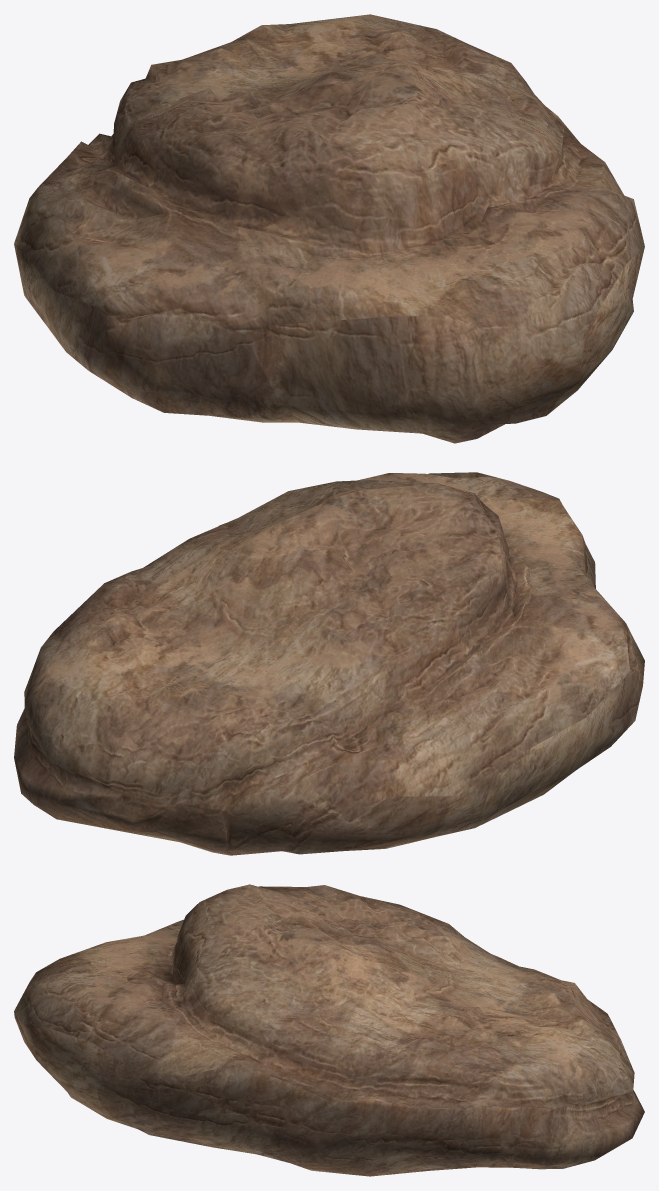
File: rock_small07.dae
The picture shows the model from 3 angles, top to bottom: view 1: azimuth 30°, elevation 25°; view 2: azimuth 150°, elevation 25°; view 3: azimuth 270°, elevation 25°; orthographic projection. The views are drawn at different scales.
Parts seen in each view (by area): view 1: Mesh; view 2: Mesh; view 3: Mesh.
Part boxes in pixels (x1,y1,x2,y2): Mesh: [14, 14, 644, 443]; Mesh: [14, 472, 644, 855]; Mesh: [14, 884, 644, 1176].
Bounding box in the file's own units: 0.7048 × 0.3352 × 0.9288.
